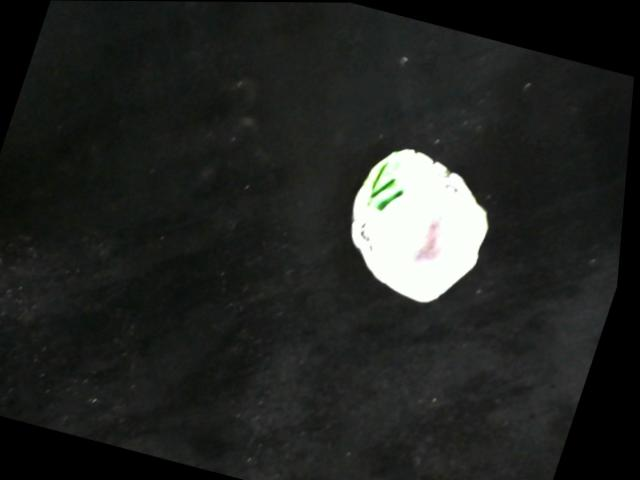can: (350, 141, 500, 315)
